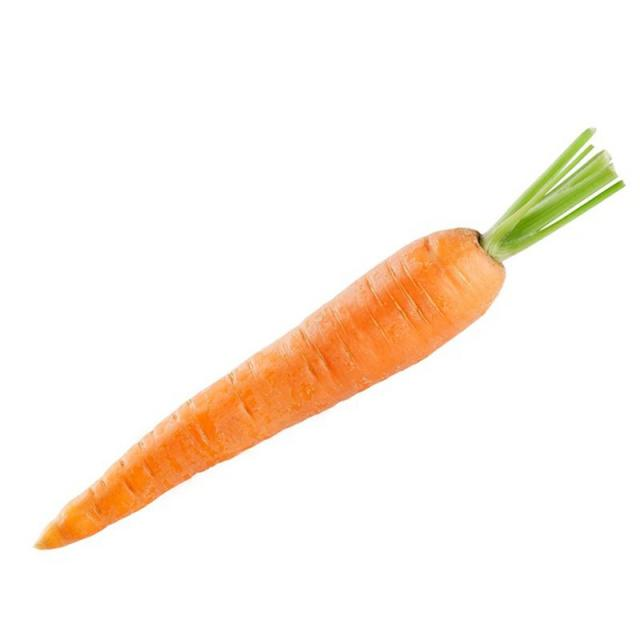Carrot: (49, 138, 618, 559)
